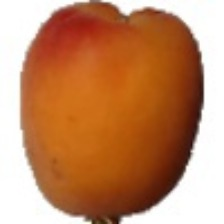apricot: (54, 25, 195, 196)
